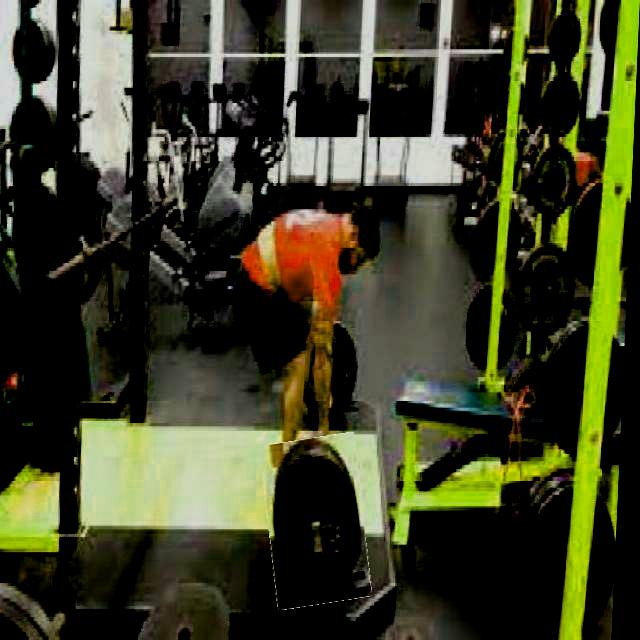barbell: (266, 437, 377, 609)
